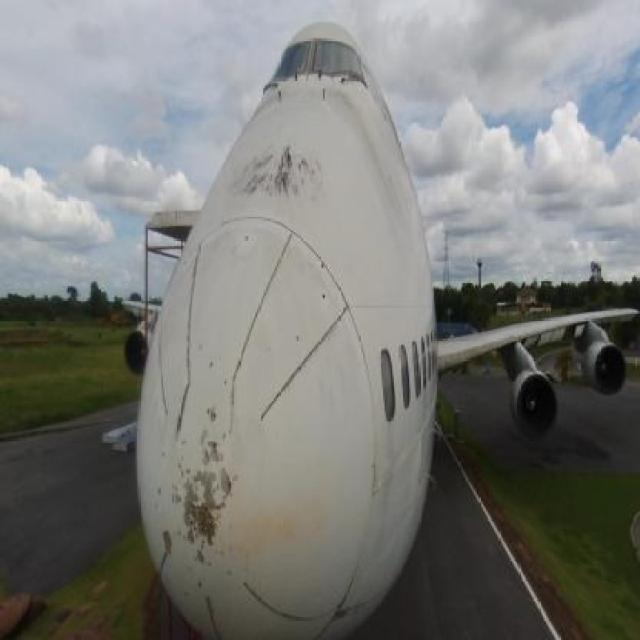Rust: (338, 86, 410, 248), (238, 138, 334, 217), (233, 500, 338, 562), (188, 502, 222, 550)
Scartch: (172, 446, 238, 563), (158, 526, 178, 559), (329, 599, 356, 621)
